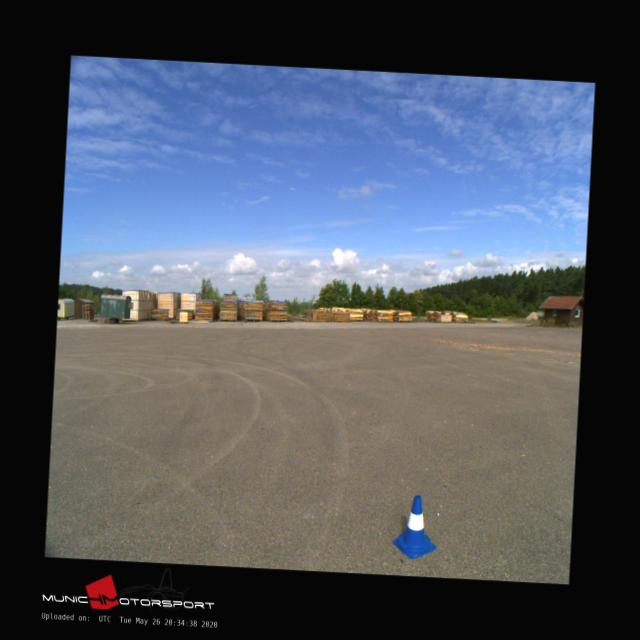blue_cone: (391, 493, 439, 560)
